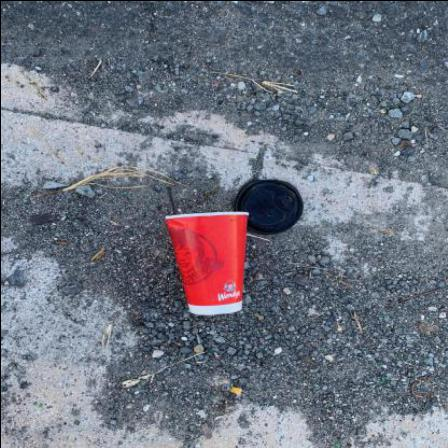Broken glass: (237, 365, 245, 371), (211, 331, 217, 337), (383, 376, 387, 384), (335, 443, 341, 448), (232, 376, 239, 380), (373, 363, 379, 367), (373, 274, 379, 278), (424, 355, 430, 359), (328, 339, 333, 343), (38, 403, 42, 408), (321, 348, 326, 352), (394, 354, 397, 358), (382, 311, 387, 313), (409, 358, 412, 361)
Cup: (166, 212, 250, 316)
Lid: (234, 180, 304, 236)
Unlabeled litter: (221, 385, 241, 395)
